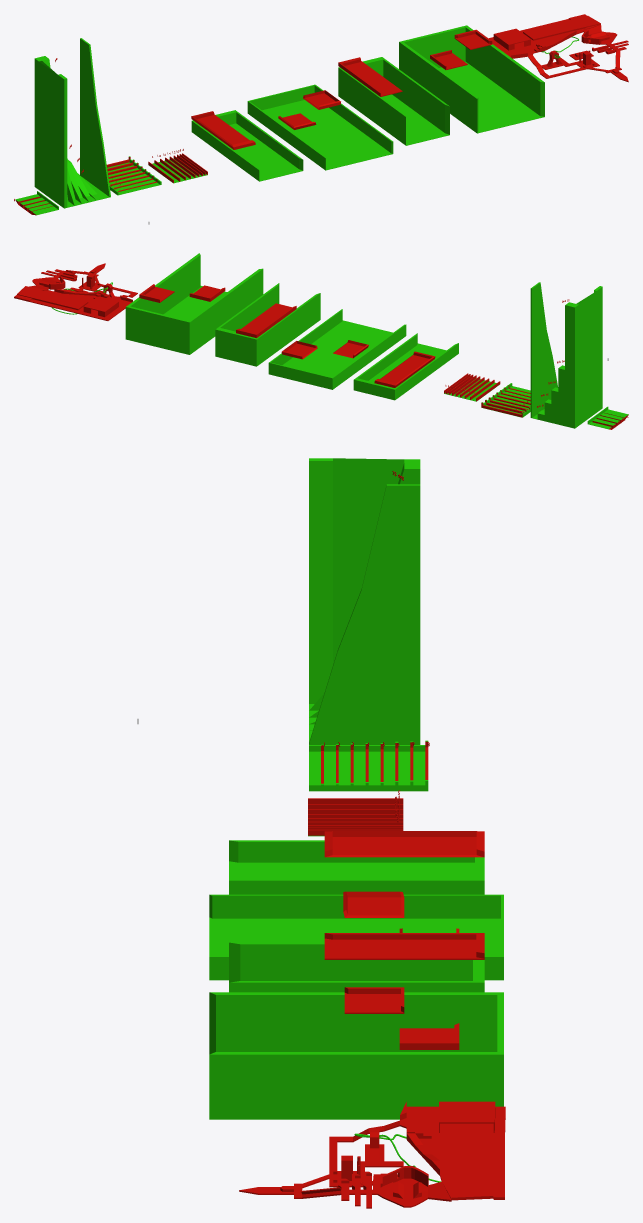
Rendered from AI_TESTER.fbx.
3 renders of one model, top to bottom at view 1: azimuth 30°, elevation 25°; view 2: azimuth 150°, elevation 25°; view 3: azimuth 270°, elevation 25°, orthographic. The views are drawn at different scales.
Parts seen in each view (by area): view 1: MULTI_LEVEL.003, RAMP, MULTI_LEVEL.001, MULTI_LEVEL.002, MULTI_LEVEL, Grid, VAULT, HALLWAY, GAP; view 2: RAMP, MULTI_LEVEL.003, MULTI_LEVEL.001, MULTI_LEVEL.002, Grid, MULTI_LEVEL, VAULT, HALLWAY, GAP; view 3: MULTI_LEVEL.003, RAMP, MULTI_LEVEL, MULTI_LEVEL.001, Grid, MULTI_LEVEL.002, VAULT, HALLWAY.
Boxes of the visible parts, bbox=[...] form: MULTI_LEVEL.003: bbox=[399, 25, 544, 133]; RAMP: bbox=[34, 38, 110, 208]; MULTI_LEVEL.001: bbox=[247, 84, 393, 170]; MULTI_LEVEL.002: bbox=[338, 57, 449, 145]; MULTI_LEVEL: bbox=[191, 110, 303, 181]; Grid: bbox=[489, 14, 628, 82]; VAULT: bbox=[106, 156, 161, 195]; HALLWAY: bbox=[148, 153, 207, 183]; GAP: bbox=[15, 191, 58, 215]; RAMP: bbox=[530, 282, 602, 428]; MULTI_LEVEL.003: bbox=[125, 253, 263, 354]; MULTI_LEVEL.001: bbox=[268, 309, 406, 389]; MULTI_LEVEL.002: bbox=[215, 283, 320, 366]; Grid: bbox=[14, 263, 137, 320]; MULTI_LEVEL: bbox=[353, 333, 458, 400]; VAULT: bbox=[481, 383, 530, 417]; HALLWAY: bbox=[444, 373, 500, 401]; GAP: bbox=[587, 406, 628, 429]; MULTI_LEVEL.003: bbox=[209, 987, 503, 1119]; RAMP: bbox=[309, 458, 420, 744]; MULTI_LEVEL: bbox=[229, 831, 484, 894]; MULTI_LEVEL.001: bbox=[209, 891, 503, 980]; Grid: bbox=[239, 1101, 505, 1208]; MULTI_LEVEL.002: bbox=[229, 933, 484, 992]; VAULT: bbox=[309, 740, 428, 791]; HALLWAY: bbox=[308, 798, 403, 836].
Size of the model in its own units: 22358 by 4899 by 6183.
